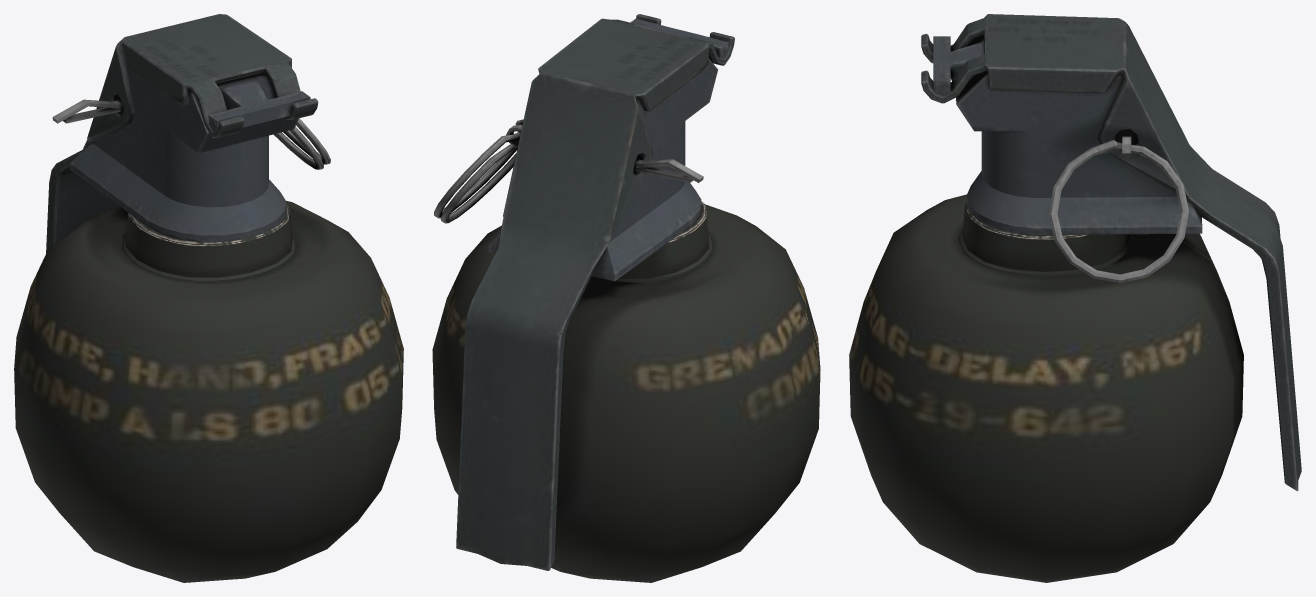
Rendered from grenade.glb.
3 renders of one model, left to right at view 1: azimuth 30°, elevation 25°; view 2: azimuth 150°, elevation 25°; view 3: azimuth 270°, elevation 25°, orthographic. The views are drawn at different scales.
Visible parts, largest first — view 1: Cube.002; view 2: Cube.002; view 3: Cube.002.
Part boxes in pixels (x1,y1,x2,y2): Cube.002: (14,14,403,582); Cube.002: (432,14,820,582); Cube.002: (849,14,1301,582).
Size of the model in its own units: 1.42 by 2.07 by 1.63.
1 material, 1 textured.
